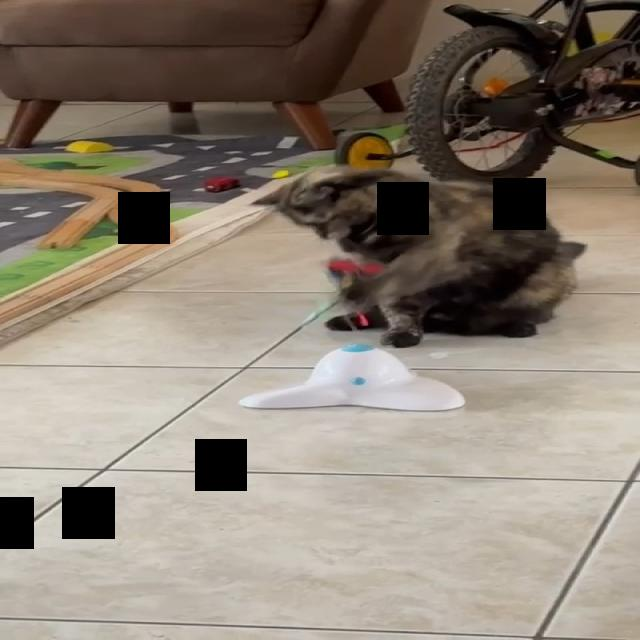authorized: (249, 162, 587, 348)
